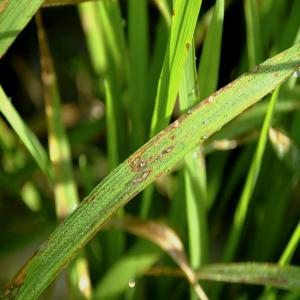1 RiceBlast: (129, 163, 161, 192), (159, 143, 185, 165), (126, 150, 145, 173)
